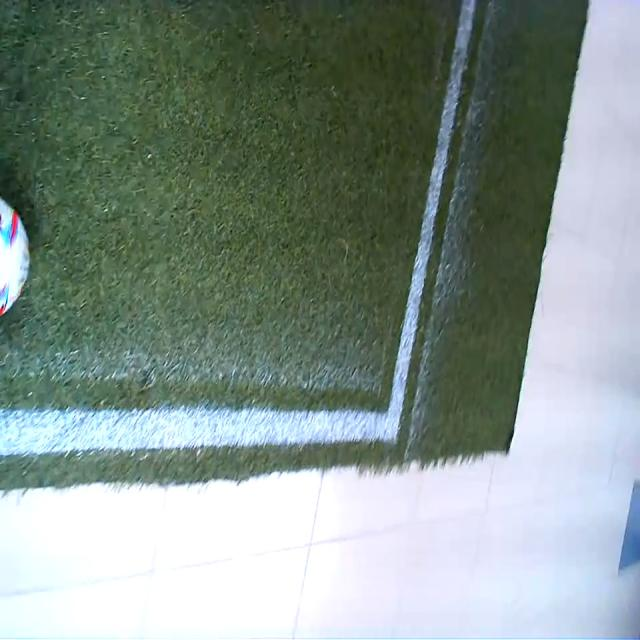ball: (0, 197, 30, 320)
